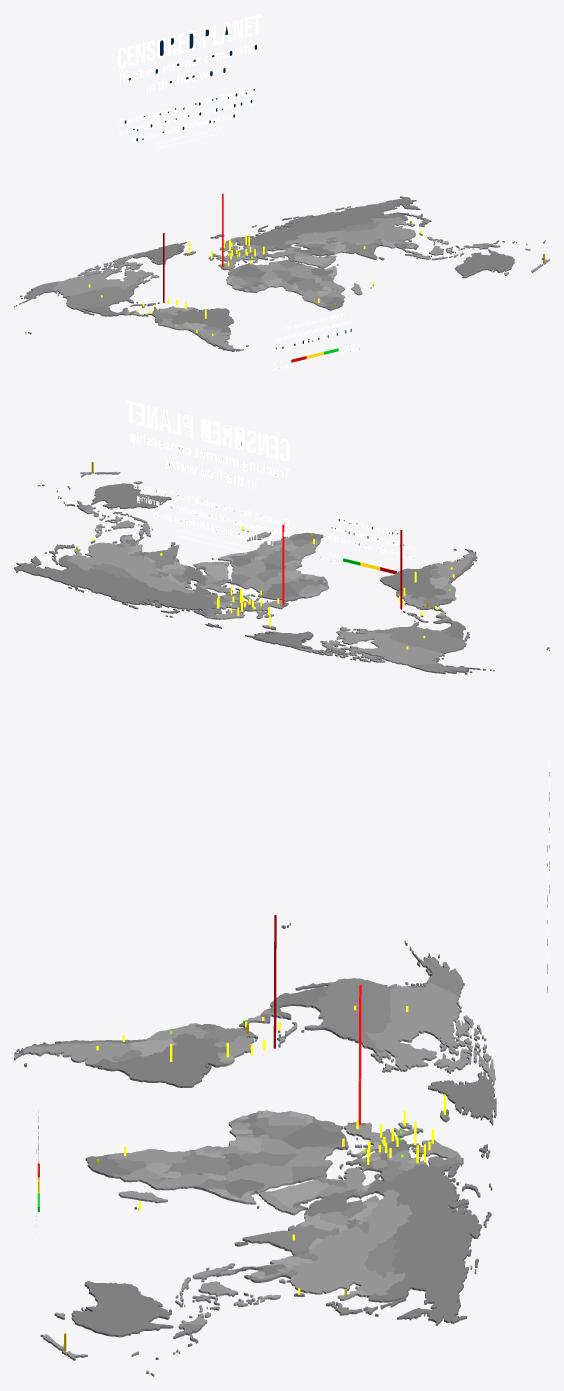
The model's file is internet-transformed.glb.
The picture shows the model from 3 angles, top to bottom: view 1: azimuth 30°, elevation 25°; view 2: azimuth 150°, elevation 25°; view 3: azimuth 270°, elevation 25°; orthographic projection. The views are drawn at different scales.
Parts seen in each view (by area): view 1: Main_Layer; view 2: Main_Layer; view 3: Main_Layer.
Part boxes in pixels (<box>): Main_Layer: <box>14,14,549,371</box>; Main_Layer: <box>14,400,549,674</box>; Main_Layer: <box>14,703,549,1376</box>.
Bounding box in the file's own units: 907 × 411 × 454.
